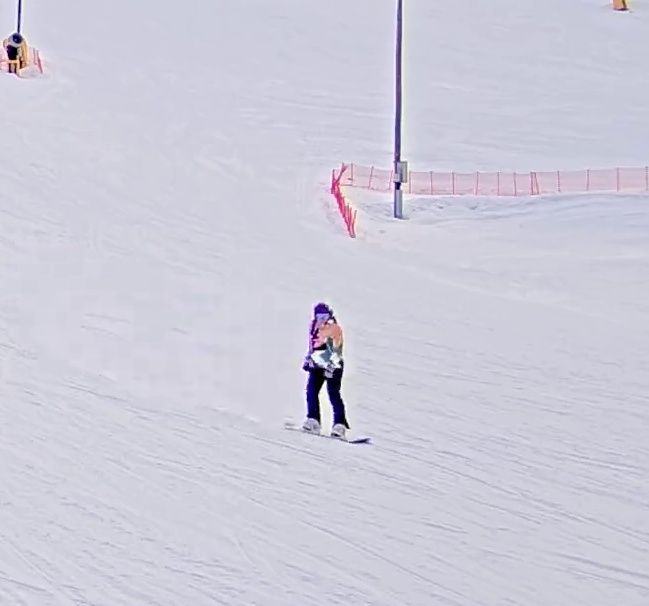snowboarder: (279, 305, 373, 444)
